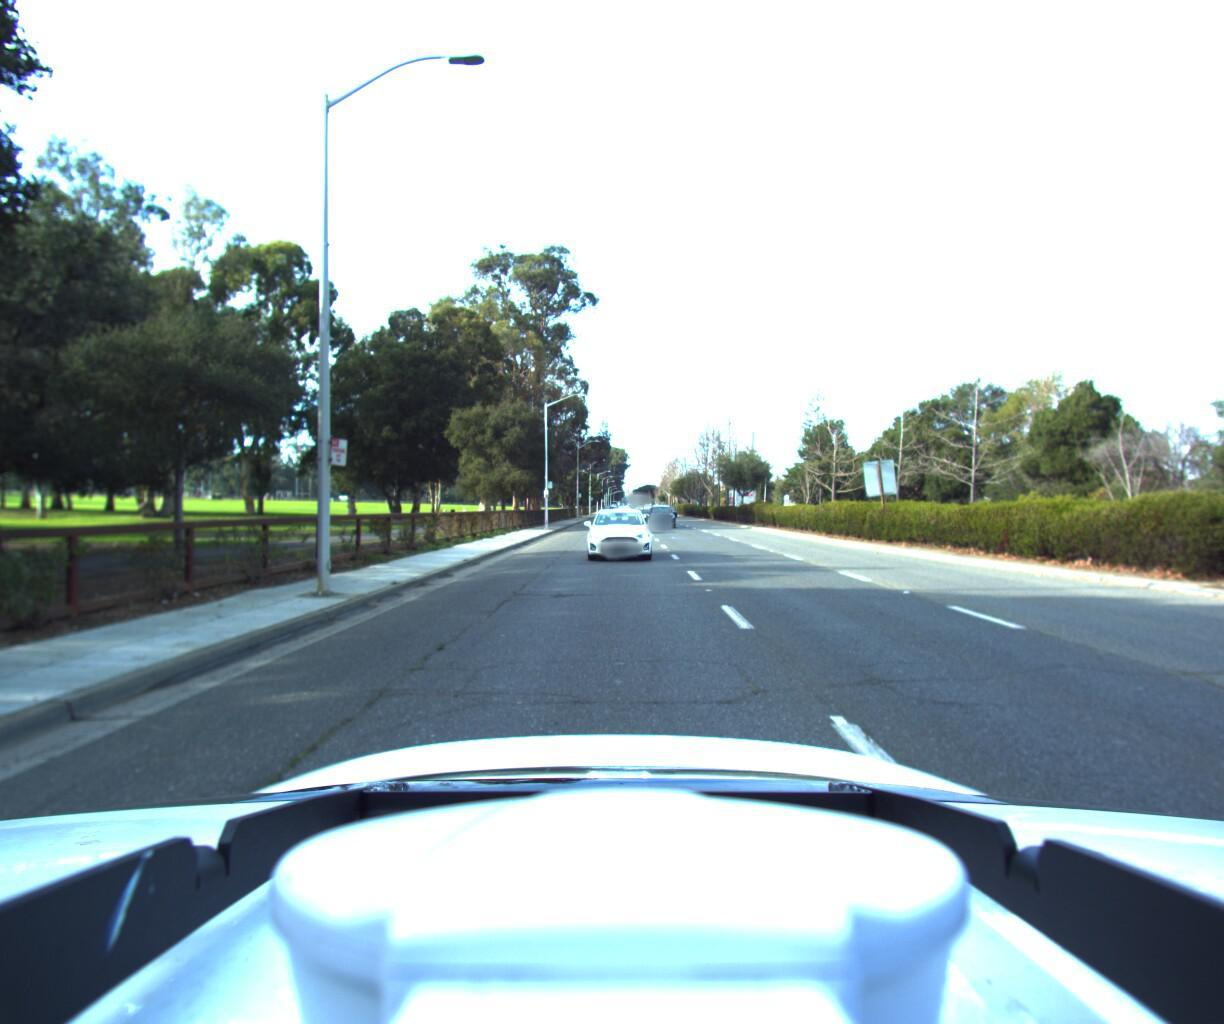car: (583, 505, 654, 563)
